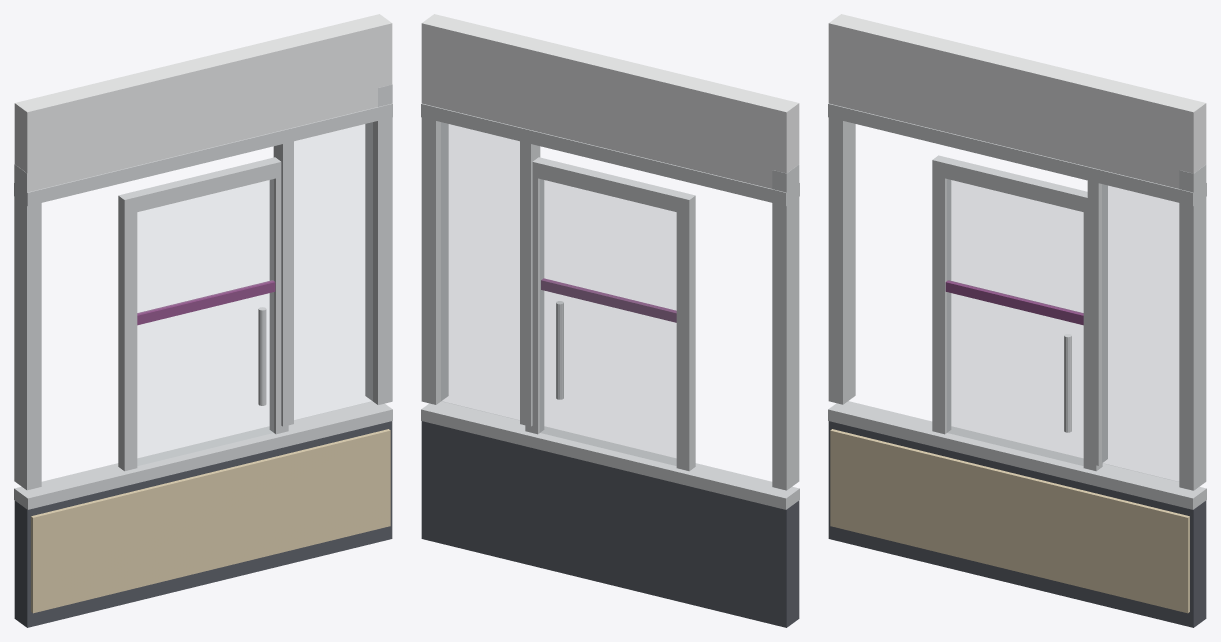
Rendered from pharmacy-and-high-street-chemist-shopfront-door-bay-33d24893__37495.glb.
3 renders of one model, left to right at view 1: azimuth 30°, elevation 25°; view 2: azimuth 150°, elevation 25°; view 3: azimuth 330°, elevation 25°, orthographic.
Parts seen in each view (by area): view 1: shopfront-door-bay, door-shop/glass, door-shop/steel, door-shop/plum; view 2: shopfront-door-bay, door-shop/glass, door-shop/steel, door-shop/plum; view 3: shopfront-door-bay, door-shop/glass, door-shop/steel, door-shop/plum.
Boxes of the visible parts, bbox=[...] form: shopfront-door-bay: bbox=[14, 14, 392, 627]; door-shop/glass: bbox=[137, 179, 273, 465]; door-shop/steel: bbox=[118, 157, 288, 471]; door-shop/plum: bbox=[137, 280, 275, 325]; shopfront-door-bay: bbox=[421, 14, 799, 627]; door-shop/glass: bbox=[540, 179, 676, 465]; door-shop/steel: bbox=[525, 157, 695, 471]; door-shop/plum: bbox=[541, 278, 676, 322]; shopfront-door-bay: bbox=[828, 14, 1206, 627]; door-shop/glass: bbox=[947, 179, 1083, 465]; door-shop/steel: bbox=[932, 155, 1102, 471]; door-shop/plum: bbox=[945, 280, 1083, 325].
Size of the model in its own units: 2 by 2.7 by 0.1451.
